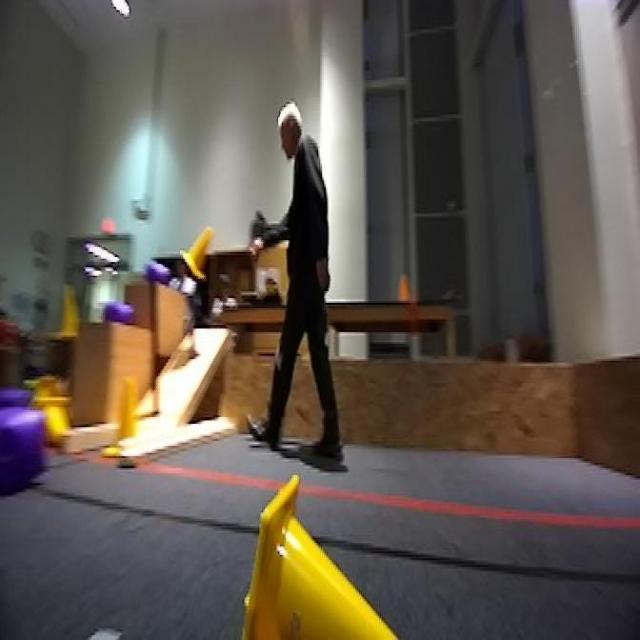frc_cone: (237, 468, 423, 640), (107, 376, 140, 458), (179, 228, 218, 283), (54, 284, 83, 346), (46, 392, 72, 442), (30, 369, 66, 400)
frc_cube: (1, 407, 47, 487), (101, 294, 138, 324), (140, 259, 169, 286), (4, 388, 32, 412)
